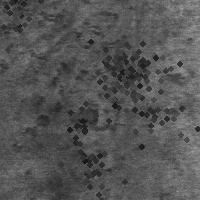rolled-in_scale: (1, 6, 122, 125), (96, 50, 200, 164), (72, 12, 180, 120), (82, 32, 166, 116), (45, 121, 127, 200), (0, 0, 57, 53), (61, 94, 103, 136)
